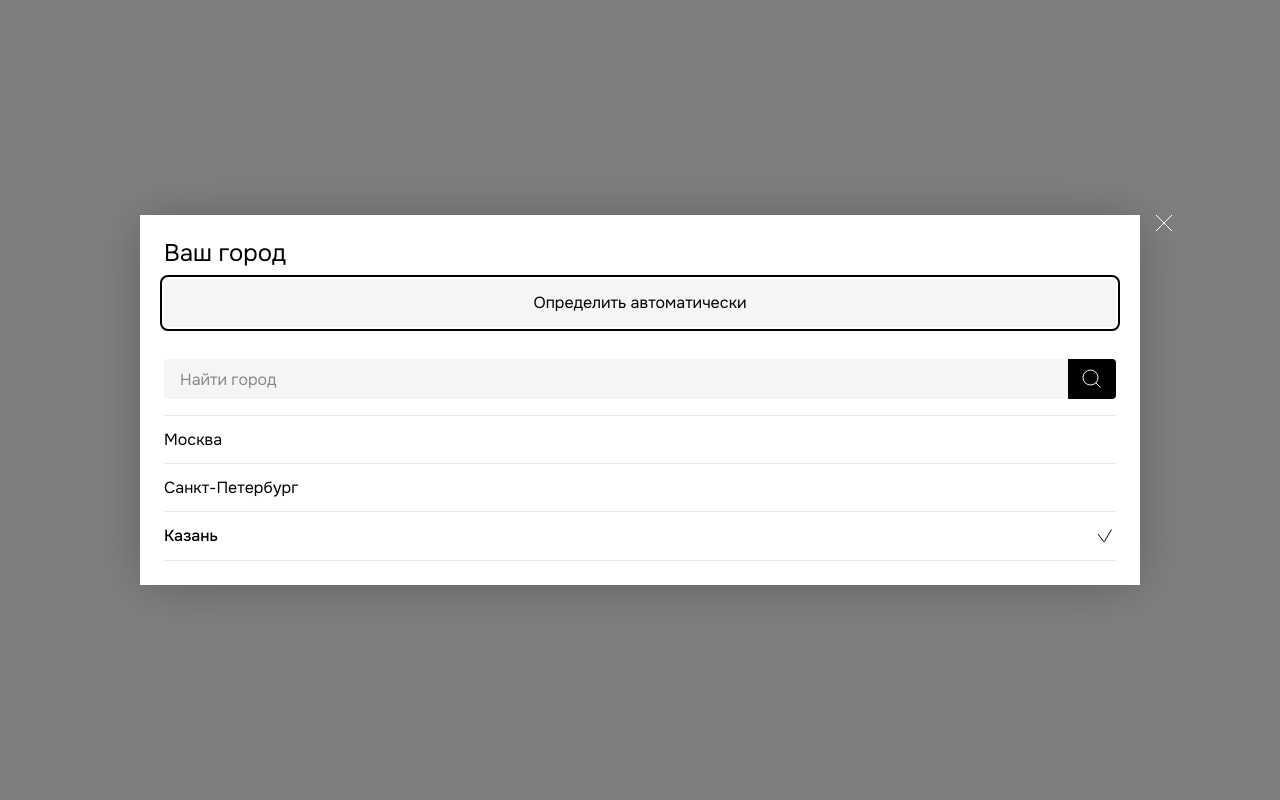
CityModal automatic search › says so when the position is failed, keeping the city
Click the button "Определить автоматически" at (640, 303), box [164,279,1116,327]
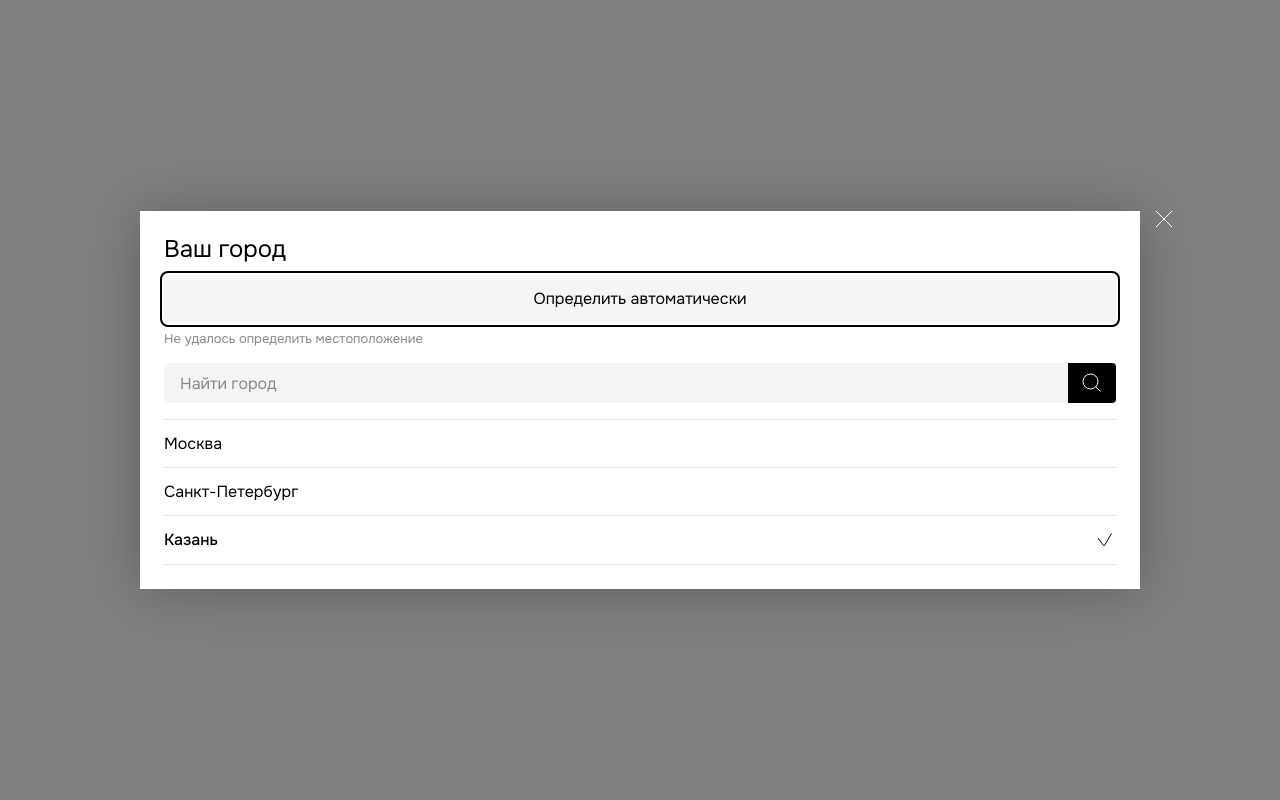
Expected: the text "Казань" is shown, [164,530,218,550]
Expected: the message reads "Не удалось определить местоположение", [164,330,423,347]
